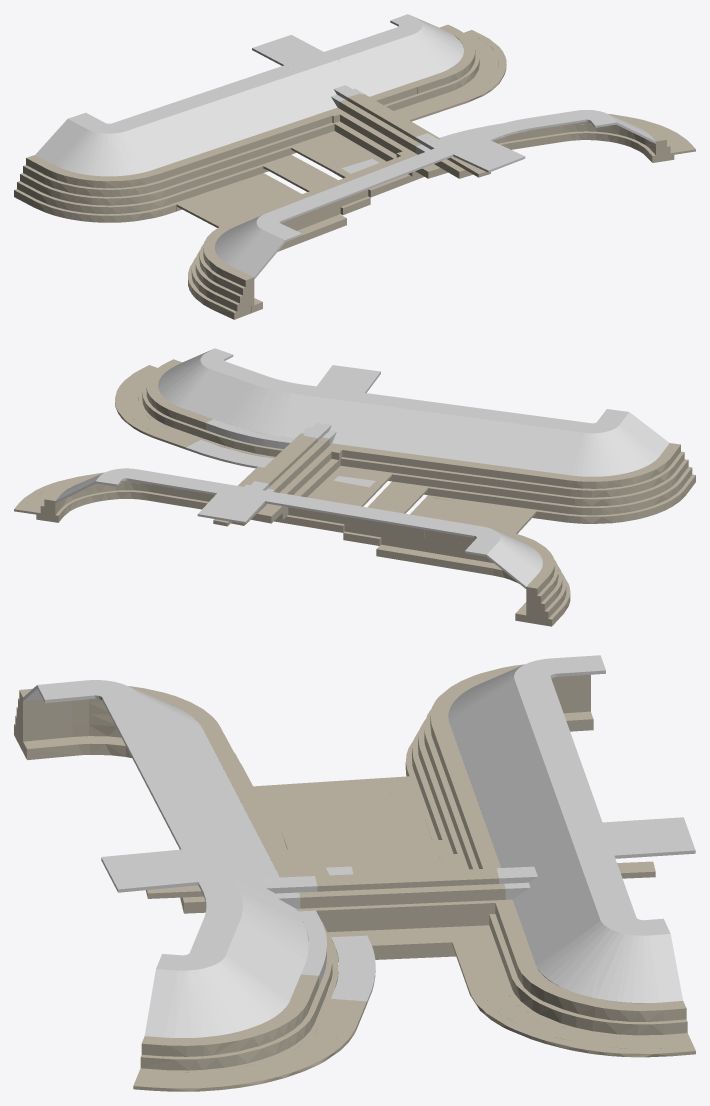
The model's file is 500125-CSSP001-560-XX-MD-HD-003125.glb.
The picture shows the model from 3 angles, top to bottom: view 1: azimuth 30°, elevation 25°; view 2: azimuth 150°, elevation 25°; view 3: azimuth 270°, elevation 25°; orthographic projection. The views are drawn at different scales.
Parts seen in each view (by area): view 1: 500125-CSSP001-560-XX-MD-HD-003125#GAV001, 500125-CSSP001-560-XX-MD-HD-003125#OTR001, 500125-CSSP001-560-XX-MD-HD-003125#OTR003; view 2: 500125-CSSP001-560-XX-MD-HD-003125#GAV001, 500125-CSSP001-560-XX-MD-HD-003125#OTR003, 500125-CSSP001-560-XX-MD-HD-003125#OTR001; view 3: 500125-CSSP001-560-XX-MD-HD-003125#GAV001, 500125-CSSP001-560-XX-MD-HD-003125#OTR001, 500125-CSSP001-560-XX-MD-HD-003125#OTR003.
Boxes of the visible parts, x1,y1,x2,y2 form: 500125-CSSP001-560-XX-MD-HD-003125#GAV001: (14,24,695,319); 500125-CSSP001-560-XX-MD-HD-003125#OTR001: (35,14,463,176); 500125-CSSP001-560-XX-MD-HD-003125#OTR003: (215,110,655,279); 500125-CSSP001-560-XX-MD-HD-003125#GAV001: (14,359,695,626); 500125-CSSP001-560-XX-MD-HD-003125#OTR003: (158,348,669,476); 500125-CSSP001-560-XX-MD-HD-003125#OTR001: (55,468,542,588); 500125-CSSP001-560-XX-MD-HD-003125#GAV001: (14,664,695,1091); 500125-CSSP001-560-XX-MD-HD-003125#OTR001: (448,655,695,1003); 500125-CSSP001-560-XX-MD-HD-003125#OTR003: (23,680,375,1037).
Bounding box in the file's own units: 81.02 × 8.6 × 56.04.
